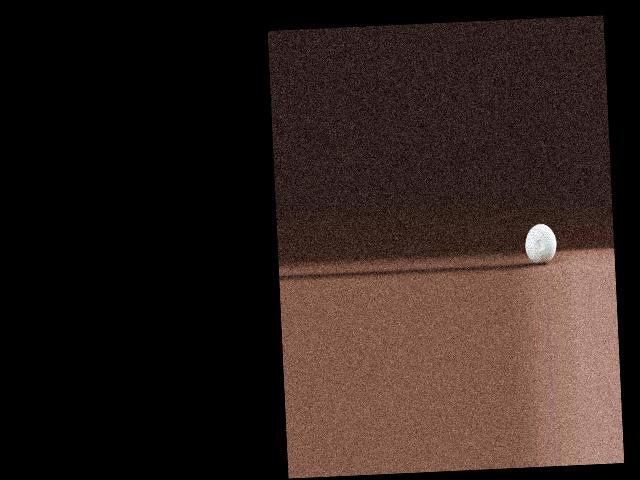egg: (524, 223, 557, 264)
